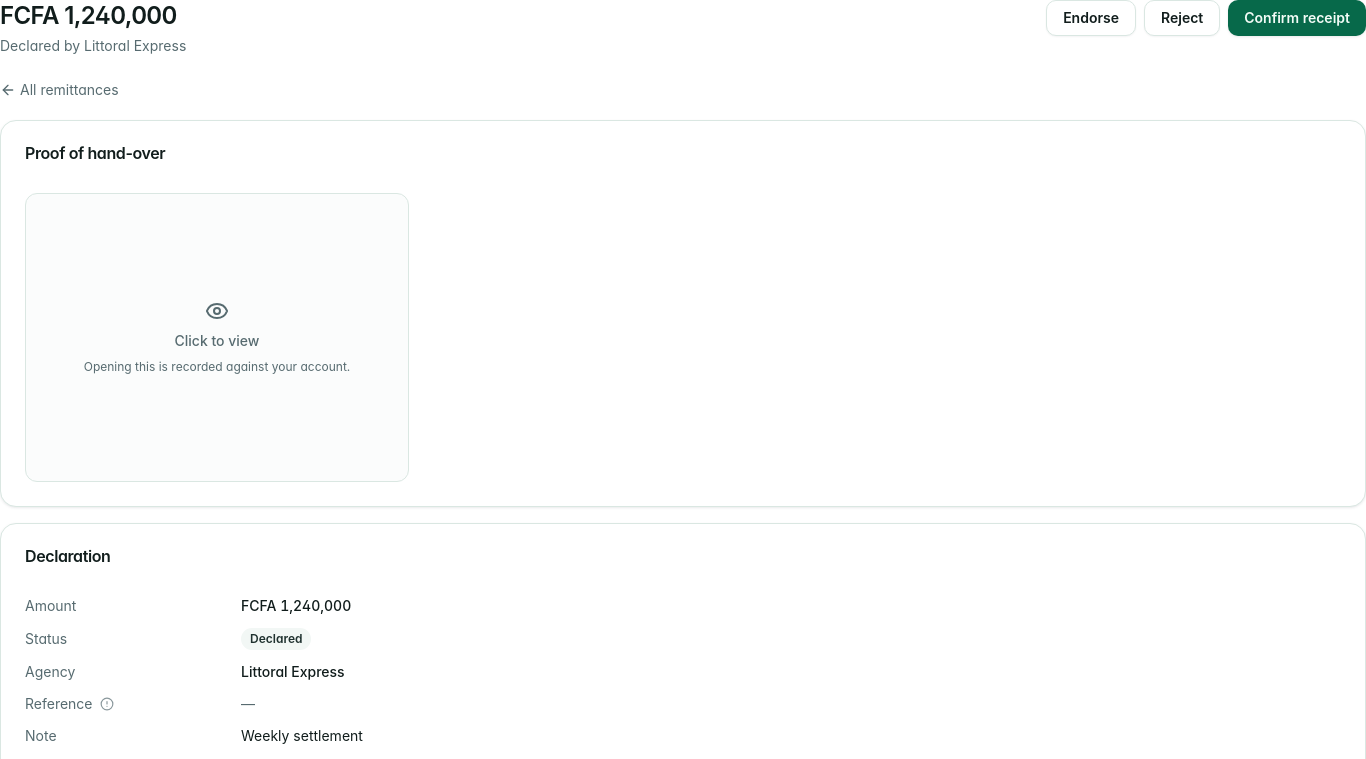
Test: one remittance › puts the photo in the confirm dialog, and no longer warns about the reference
The width and height of the screenshot is (1366, 759).
Click the button "Confirm receipt" at (1297, 18), box [1228,0,1365,36]
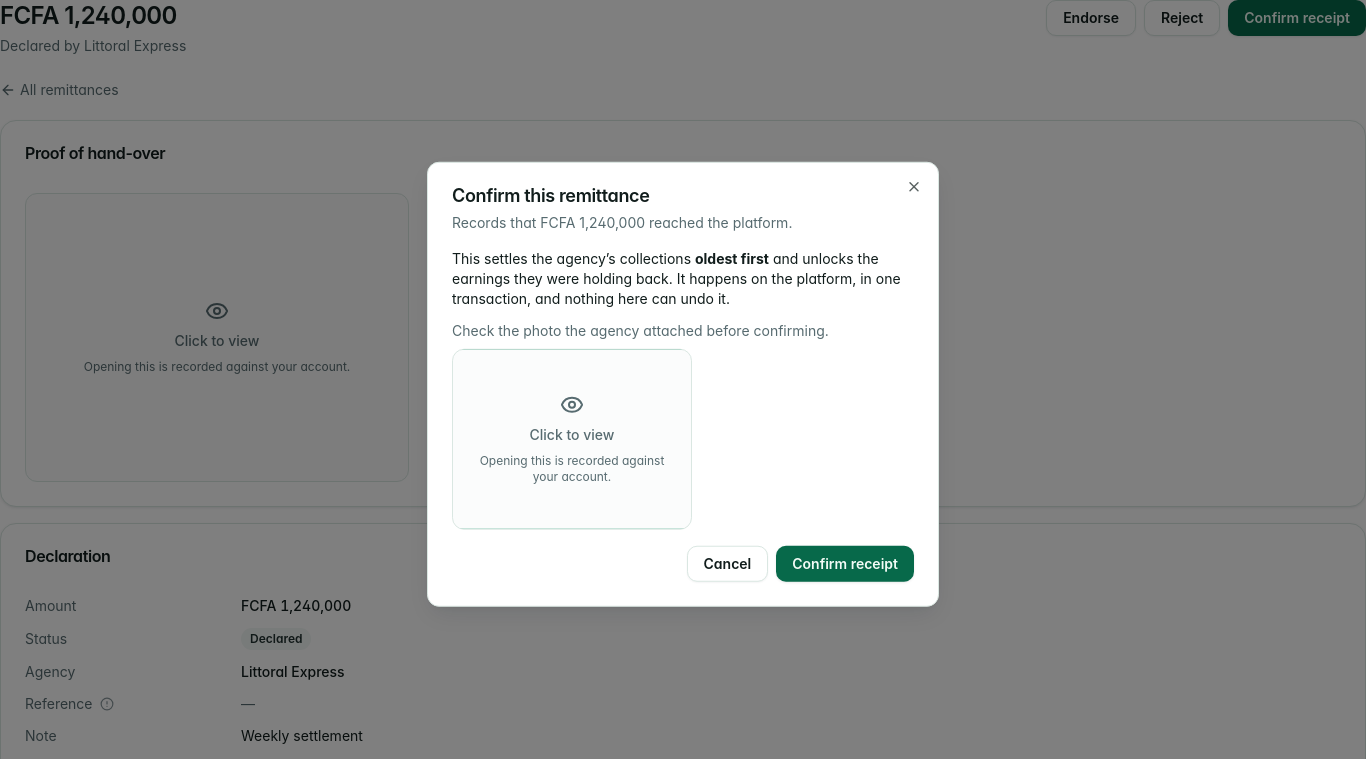
Now the button with aria-label "click to view the remittance proof photo" is shown, box [453,350,691,528]
